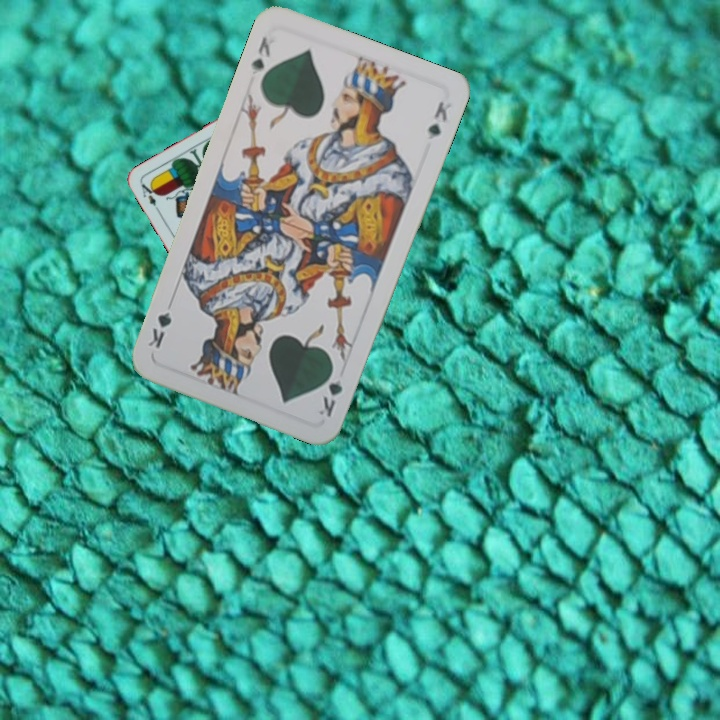EA: (137, 179, 164, 216)
GK: (314, 362, 345, 420), (247, 32, 273, 78)
